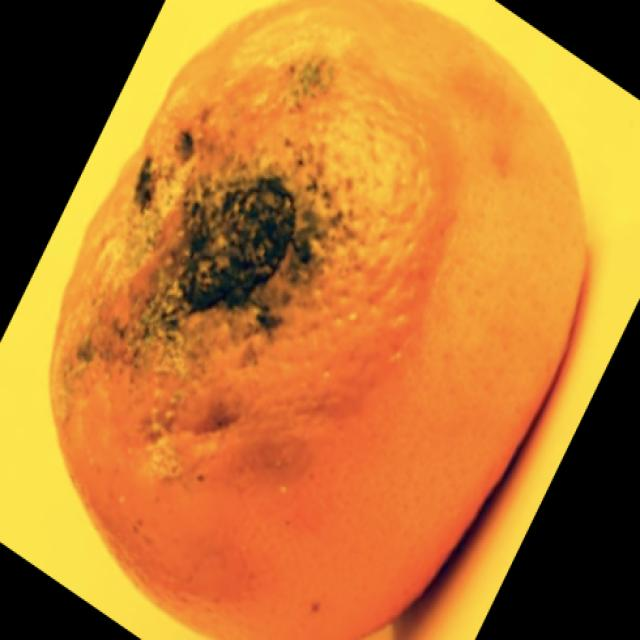sedikit_busuk: (52, 1, 581, 638)
